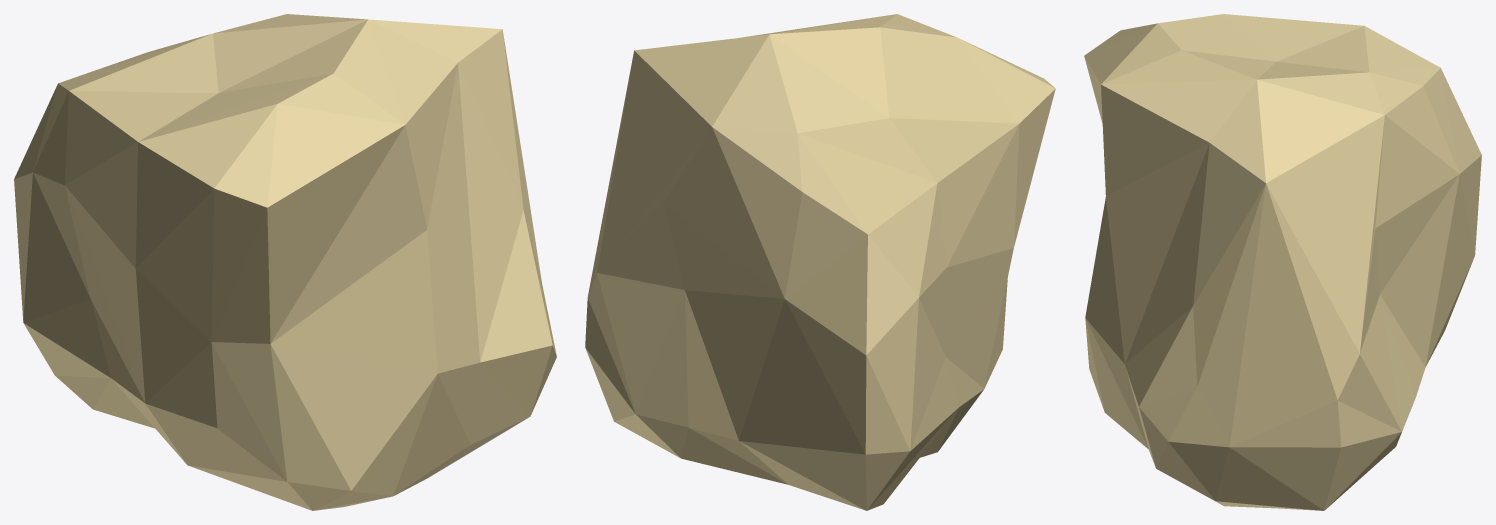
The model's file is Rock (62).fbx.
3 views of the same model, side by side, from view 1: azimuth 30°, elevation 25°; view 2: azimuth 150°, elevation 25°; view 3: azimuth 270°, elevation 25° (orthographic). The views are drawn at different scales.
Visible parts, largest first — view 1: Asteroid61; view 2: Asteroid61; view 3: Asteroid61.
Part boxes in pixels (x1,y1,x2,y2): Asteroid61: (14, 14, 556, 510); Asteroid61: (585, 14, 1055, 510); Asteroid61: (1084, 14, 1481, 510).
Bounding box in the file's own units: 119 × 135 × 114.
